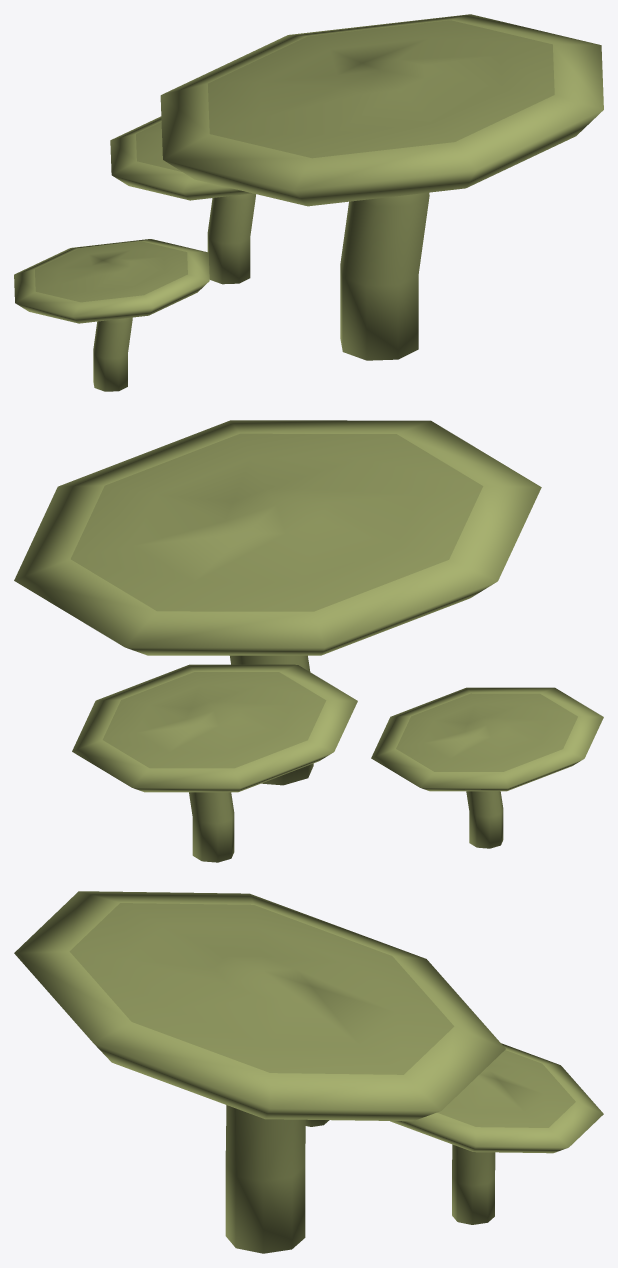
File: ZelenushkasMushroom.fbx
3 views of the same model, one above another, from view 1: azimuth 30°, elevation 25°; view 2: azimuth 150°, elevation 25°; view 3: azimuth 270°, elevation 25° (orthographic). The views are drawn at different scales.
Visible parts, largest first — view 1: Cone.006; view 2: Cone.006; view 3: Cone.006.
Boxes of the visible parts, x1,y1,x2,y2 form: Cone.006: (14, 14, 603, 391); Cone.006: (14, 420, 603, 862); Cone.006: (14, 891, 603, 1253).
Bounding box in the file's own units: 35.11 × 16.66 × 32.59.
